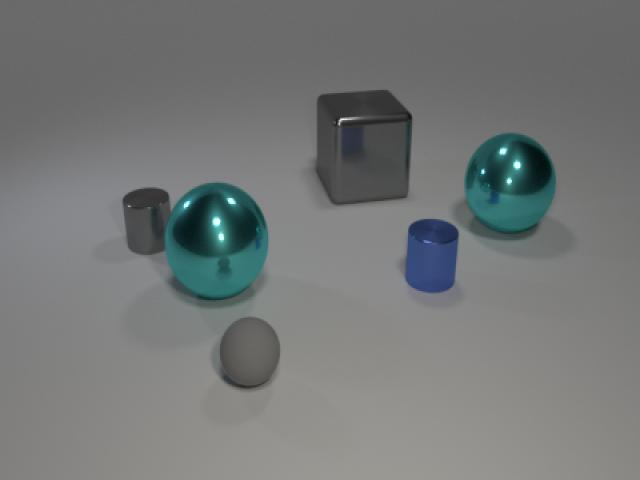cylinder: (401, 216, 465, 296), (119, 182, 173, 260)
round ball: (163, 178, 273, 305), (460, 127, 564, 241), (216, 313, 284, 392)
